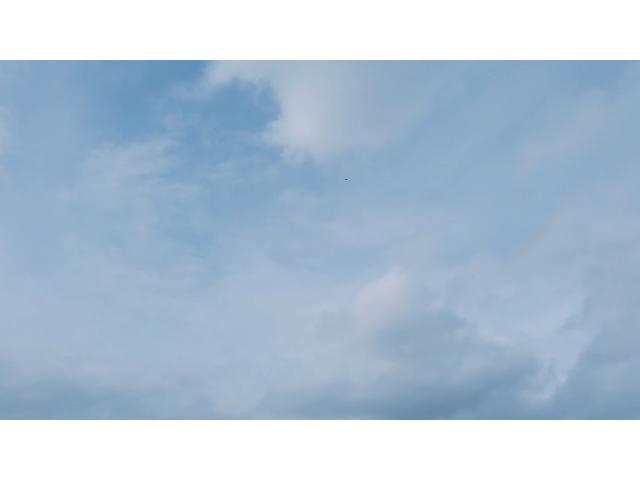Anti-Drone: (340, 177, 352, 183)
